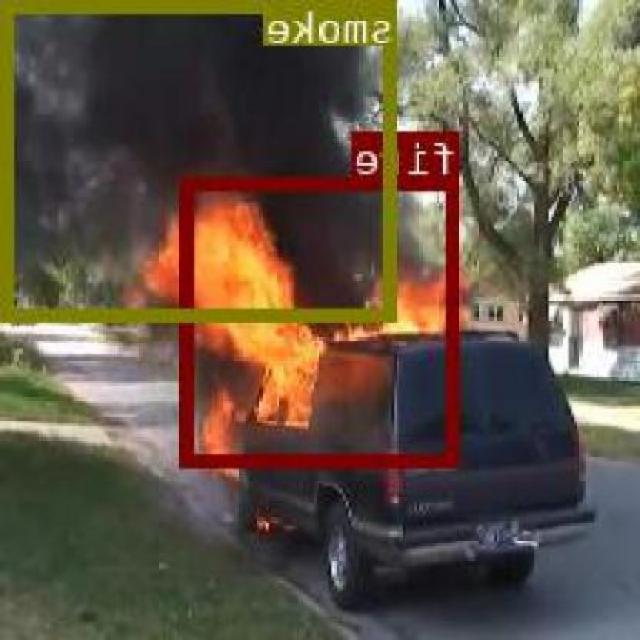Fire: (184, 177, 462, 466)
Smoke: (6, 0, 400, 317)
